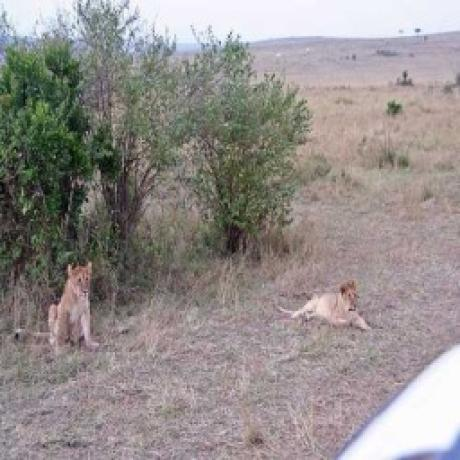Lion: (44, 260, 103, 355), (274, 276, 369, 330)
